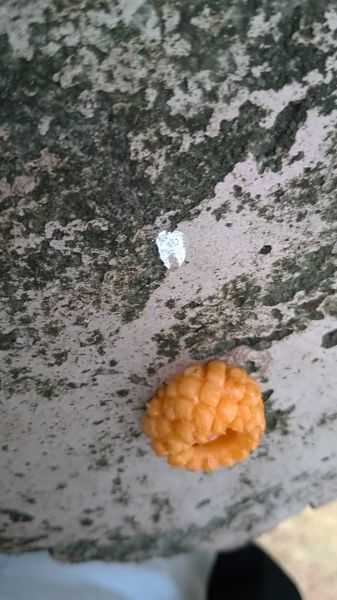eggs: (133, 350, 270, 471)
